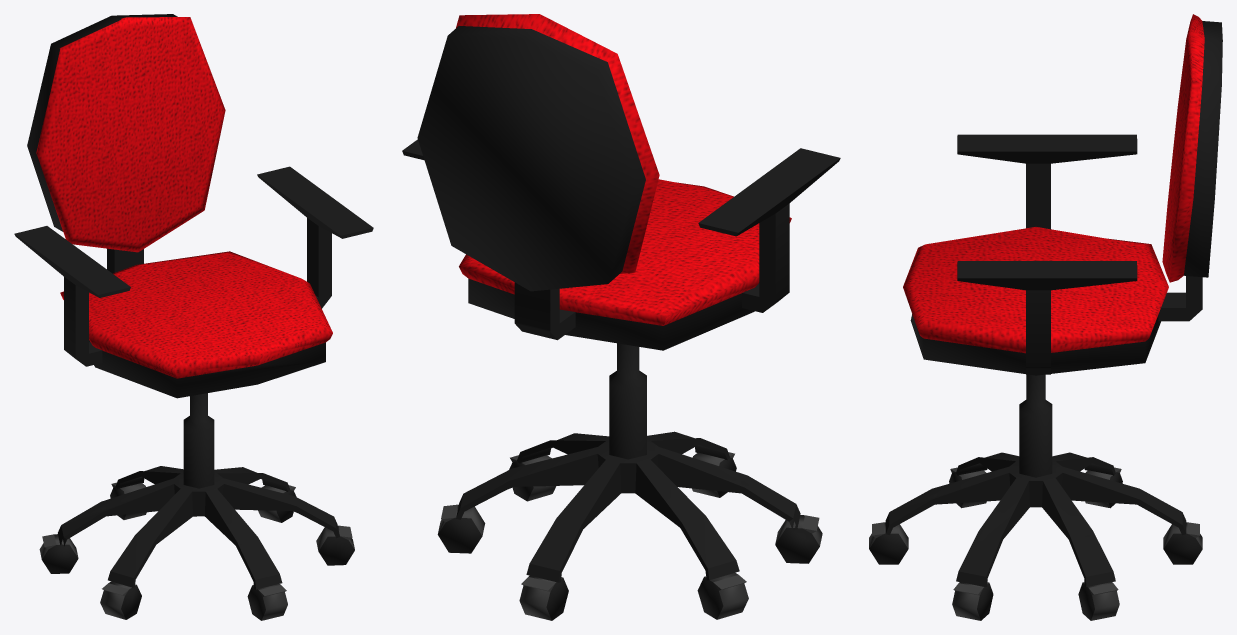
The model's file is Computer_Chair_A.FBX.
The picture shows the model from 3 angles, left to right: view 1: azimuth 30°, elevation 25°; view 2: azimuth 150°, elevation 25°; view 3: azimuth 270°, elevation 25°; orthographic projection. The views are drawn at different scales.
Visible parts, largest first — view 1: Computer_chair; view 2: Computer_chair; view 3: Computer_chair.
Part boxes in pixels (x1,y1,x2,y2): Computer_chair: [14, 14, 373, 620]; Computer_chair: [402, 14, 840, 620]; Computer_chair: [869, 14, 1222, 620].
Size of the model in its own units: 83.09 by 142 by 86.34.
